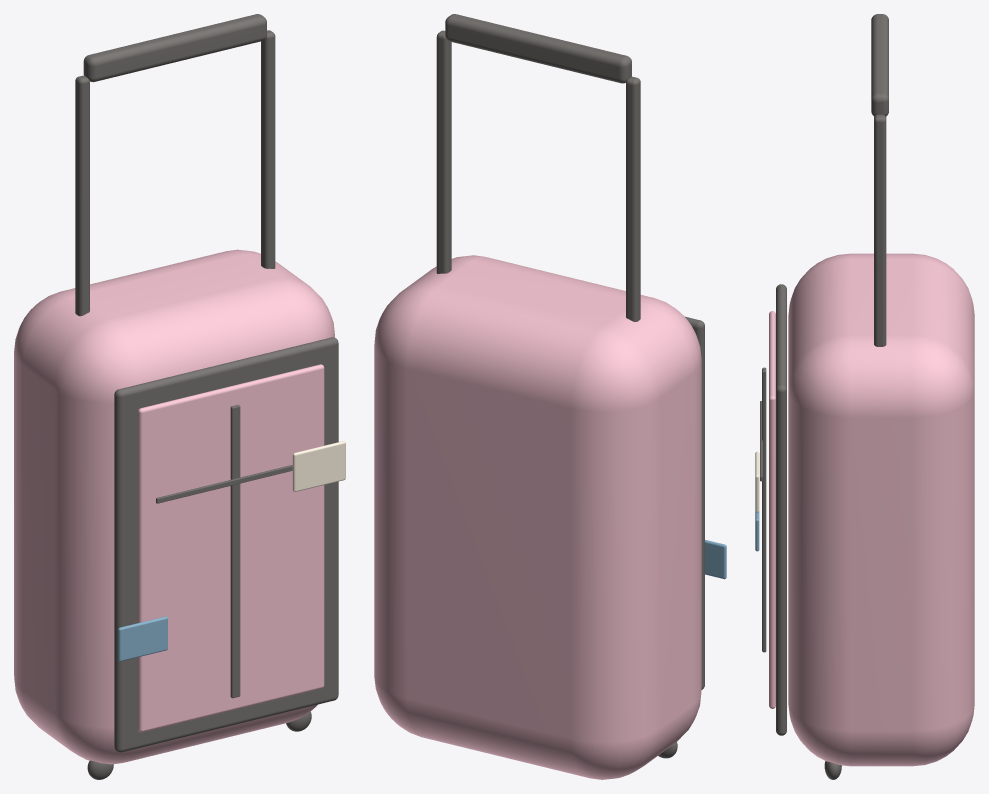
Rendered from 星湾旅店粉色行李箱_v373.fbx.
The picture shows the model from 3 angles, left to right: view 1: azimuth 30°, elevation 25°; view 2: azimuth 150°, elevation 25°; view 3: azimuth 270°, elevation 25°; orthographic projection. The views are drawn at different scales.
Visible parts, largest first — view 1: 旅店粉色行李箱_v373_圆角箱体, 旅店粉色行李箱_v373_粉色内面, 旅店粉色行李箱_v373_深色前框, 旅店粉色行李箱_v373_横向握把, 旅店粉色行李箱_v373_伸缩拉杆, 旅店粉色行李箱_v373_伸缩拉杆.001, 旅店粉色行李箱_v373_中央拉链, 旅店粉色行李箱_v373_奶油旅行贴纸, 旅店粉色行李箱_v373_海蓝目的地贴纸, 旅店粉色行李箱_v373_横向缝线; view 2: 旅店粉色行李箱_v373_圆角箱体, 旅店粉色行李箱_v373_横向握把, 旅店粉色行李箱_v373_伸缩拉杆.001, 旅店粉色行李箱_v373_伸缩拉杆, 旅店粉色行李箱_v373_深色前框, 旅店粉色行李箱_v373_海蓝目的地贴纸; view 3: 旅店粉色行李箱_v373_圆角箱体, 旅店粉色行李箱_v373_深色前框, 旅店粉色行李箱_v373_伸缩拉杆.001, 旅店粉色行李箱_v373_粉色内面, 旅店粉色行李箱_v373_横向握把, 旅店粉色行李箱_v373_中央拉链.
Part boxes in pixels (x1=…): 旅店粉色行李箱_v373_圆角箱体: x1=14, y1=249, x2=334, y2=764; 旅店粉色行李箱_v373_粉色内面: x1=138, y1=364, x2=324, y2=732; 旅店粉色行李箱_v373_深色前框: x1=114, y1=337, x2=338, y2=752; 旅店粉色行李箱_v373_横向握把: x1=83, y1=14, x2=266, y2=82; 旅店粉色行李箱_v373_伸缩拉杆: x1=75, y1=75, x2=89, y2=316; 旅店粉色行李箱_v373_伸缩拉杆.001: x1=261, y1=30, x2=275, y2=268; 旅店粉色行李箱_v373_中央拉链: x1=230, y1=404, x2=240, y2=698; 旅店粉色行李箱_v373_奶油旅行贴纸: x1=292, y1=441, x2=345, y2=491; 旅店粉色行李箱_v373_海蓝目的地贴纸: x1=118, y1=616, x2=167, y2=661; 旅店粉色行李箱_v373_横向缝线: x1=156, y1=465, x2=292, y2=503; 旅店粉色行李箱_v373_圆角箱体: x1=374, y1=255, x2=701, y2=779; 旅店粉色行李箱_v373_横向握把: x1=445, y1=14, x2=631, y2=83; 旅店粉色行李箱_v373_伸缩拉杆.001: x1=436, y1=30, x2=451, y2=273; 旅店粉色行李箱_v373_伸缩拉杆: x1=626, y1=76, x2=640, y2=321; 旅店粉色行李箱_v373_深色前框: x1=685, y1=316, x2=704, y2=689; 旅店粉色行李箱_v373_海蓝目的地贴纸: x1=705, y1=540, x2=726, y2=579; 旅店粉色行李箱_v373_圆角箱体: x1=788, y1=253, x2=974, y2=766; 旅店粉色行李箱_v373_深色前框: x1=776, y1=284, x2=786, y2=735; 旅店粉色行李箱_v373_伸缩拉杆.001: x1=874, y1=114, x2=886, y2=346; 旅店粉色行李箱_v373_粉色内面: x1=769, y1=311, x2=775, y2=708; 旅店粉色行李箱_v373_横向握把: x1=871, y1=14, x2=888, y2=116; 旅店粉色行李箱_v373_中央拉链: x1=762, y1=367, x2=766, y2=652.
Bounding box in the file's own units: 44 × 108 × 31.8.
